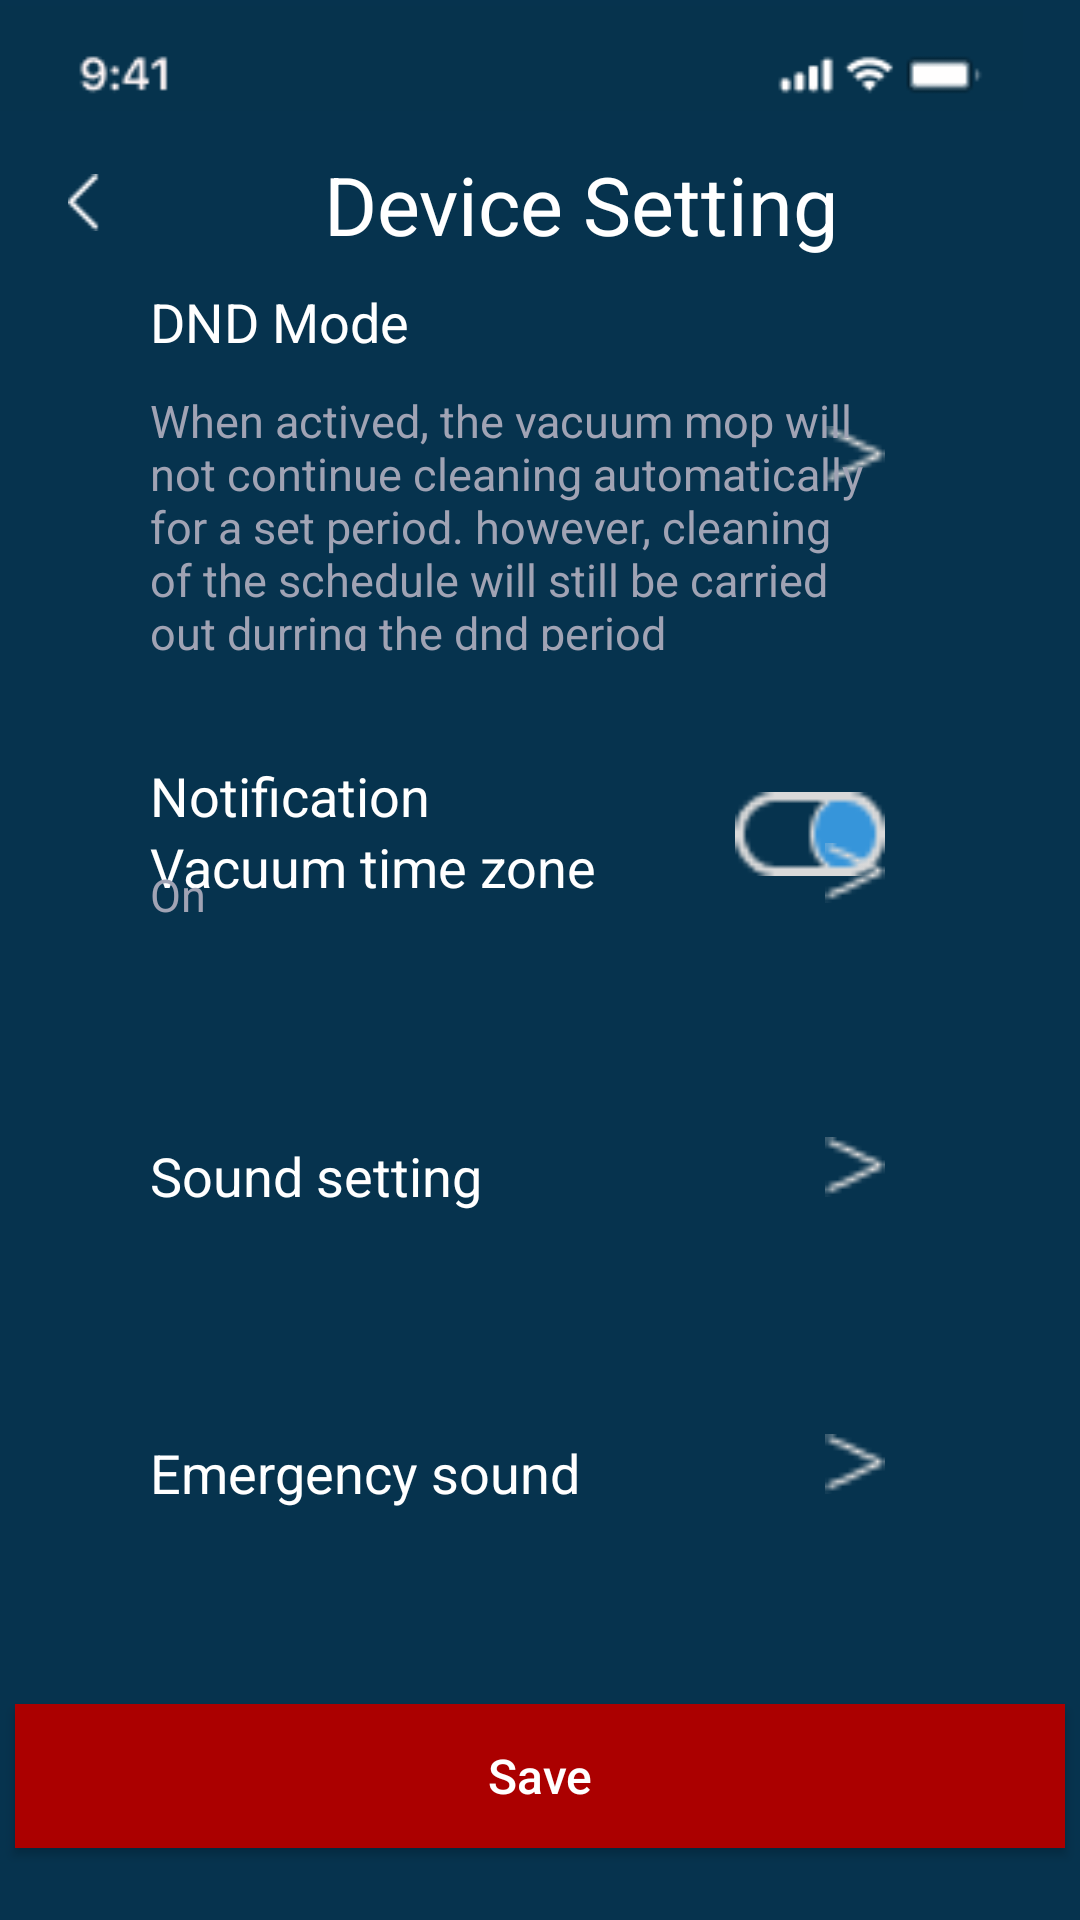

Where to tap for icons on this 1080x1920 app screen, as (x=x, y=y):
toggle: (x=810, y=843)
